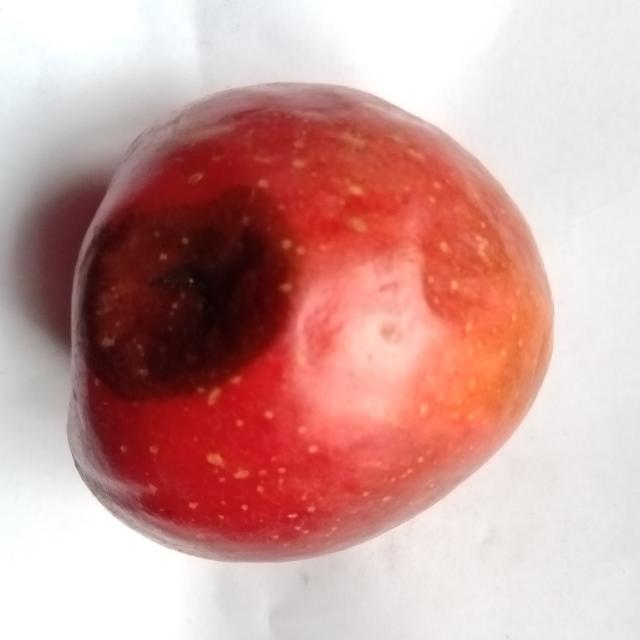apple: (69, 84, 552, 560)
